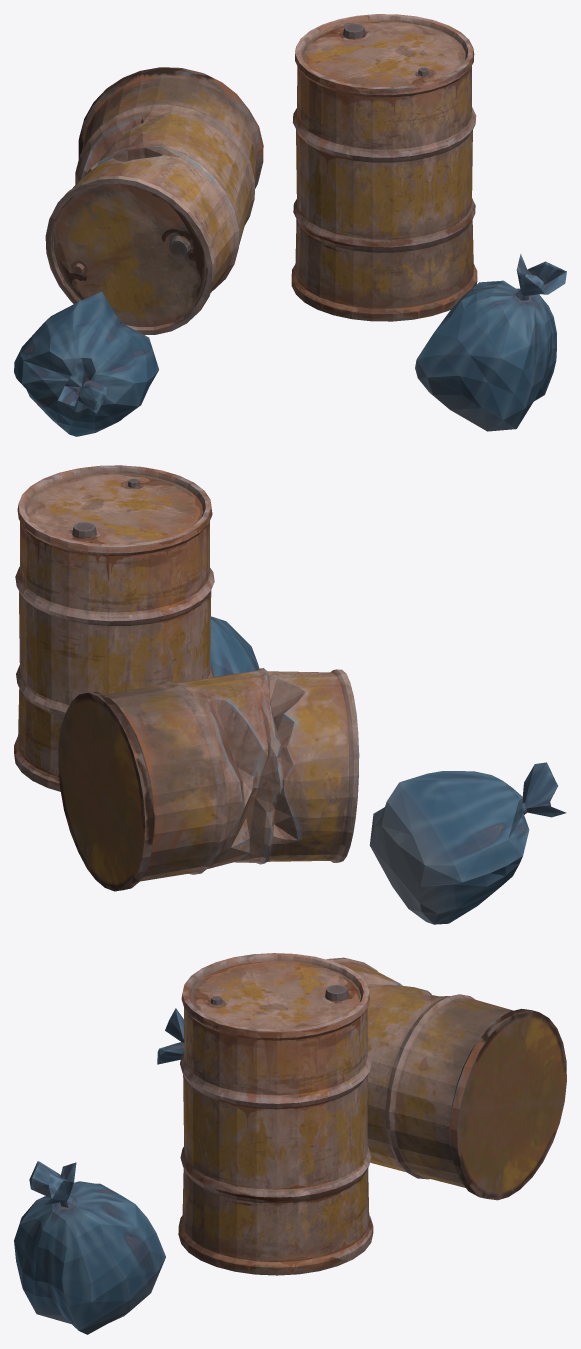
File: WarehouseManager_14.obj
The picture shows the model from 3 angles, top to bottom: view 1: azimuth 30°, elevation 25°; view 2: azimuth 150°, elevation 25°; view 3: azimuth 270°, elevation 25°; orthographic projection. The views are drawn at different scales.
Size of the model in its own units: 2.03 by 1.34 by 2.05.
Materials: 4 (4 with a texture image).
